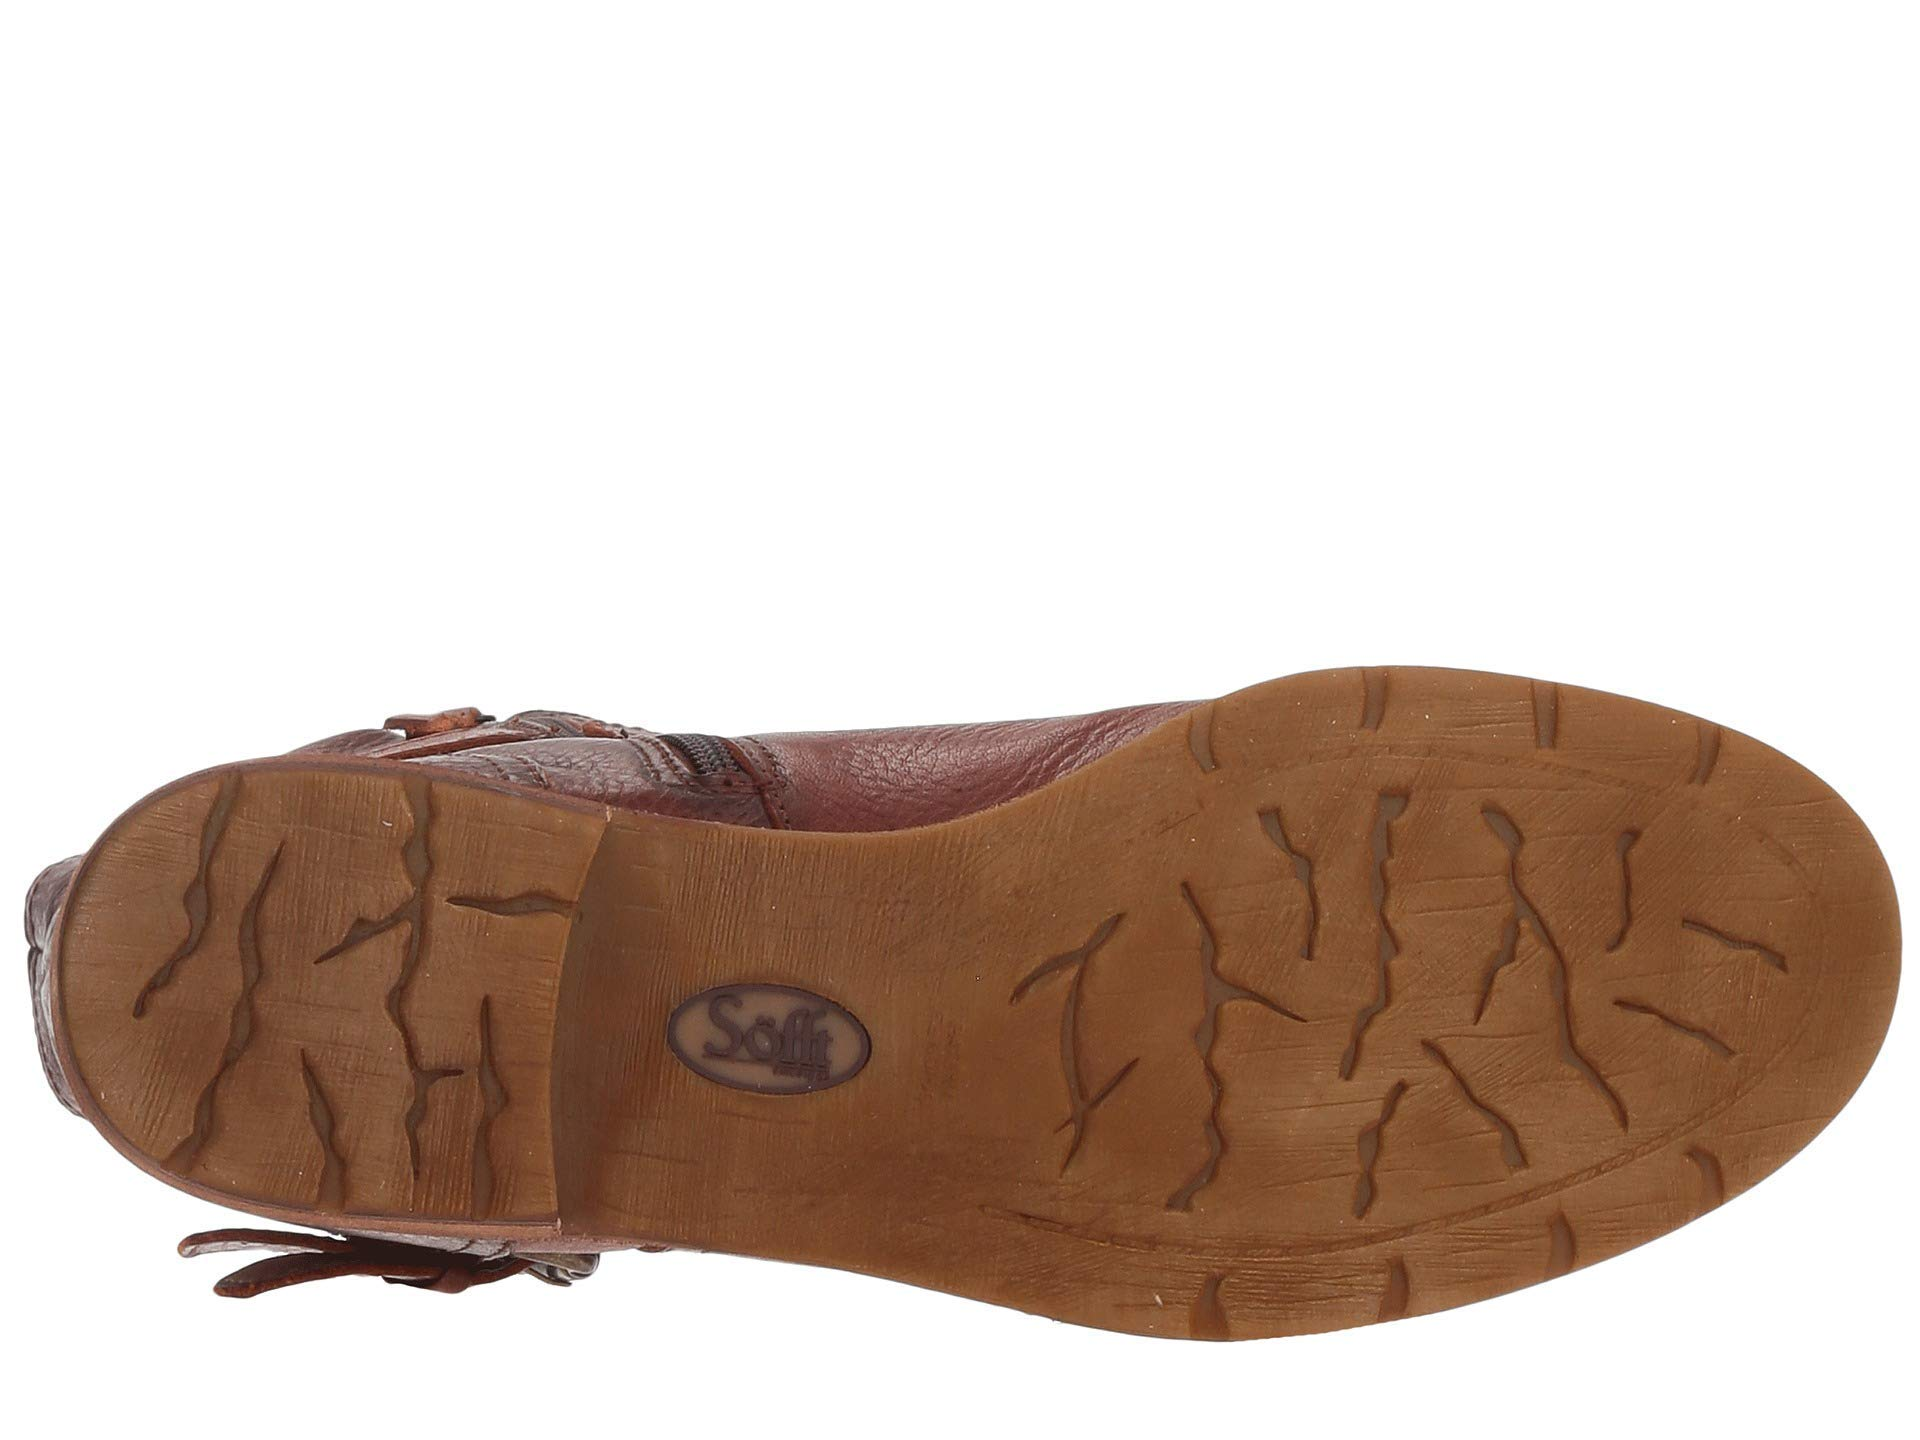circle: (661, 918, 887, 1137)
line: (1141, 737, 1692, 1249)
text: (661, 918, 887, 1137)
